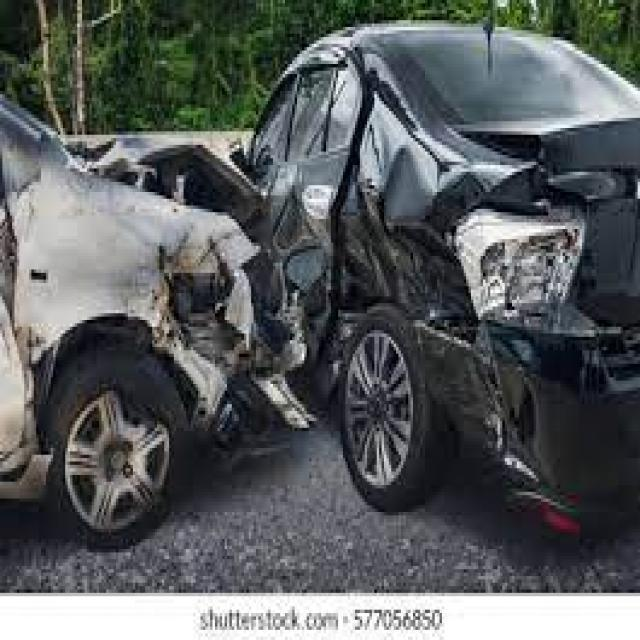accident: (0, 4, 626, 572)
